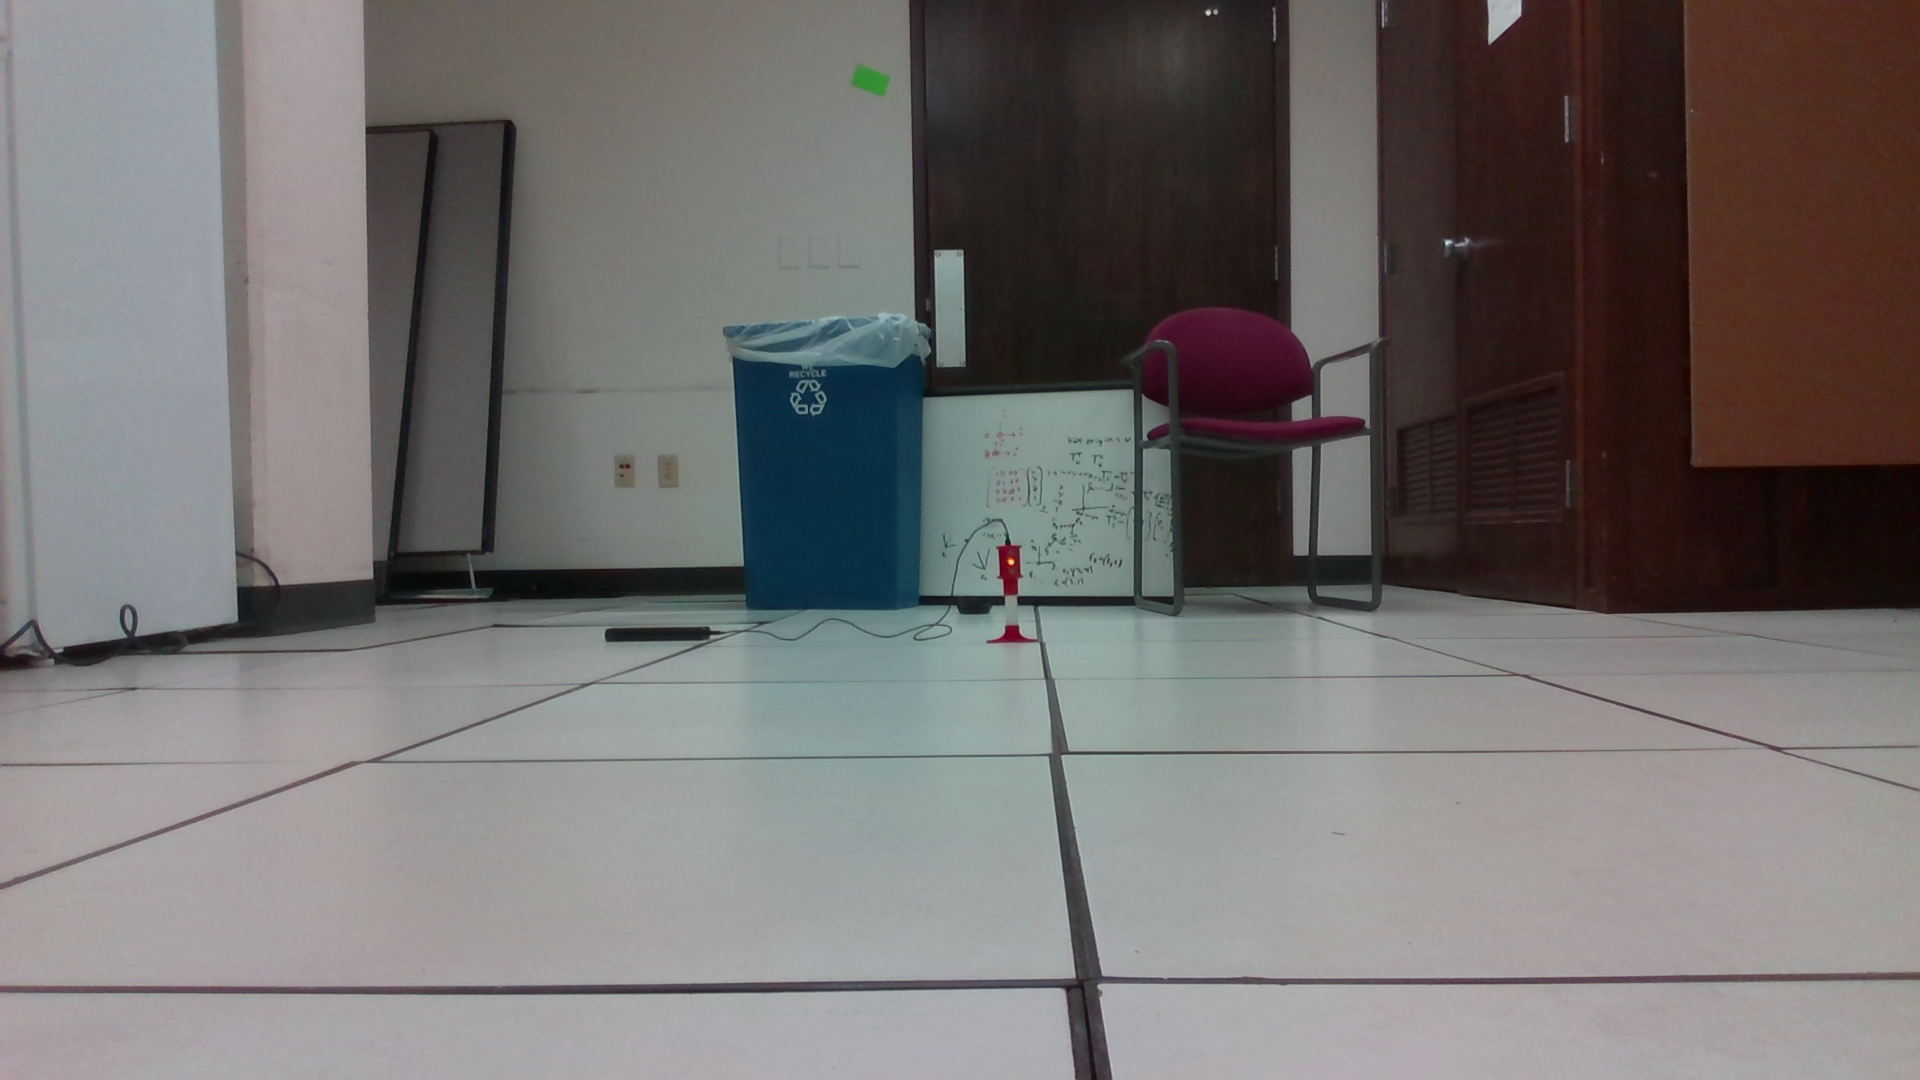stoplight: (998, 541, 1025, 597)
